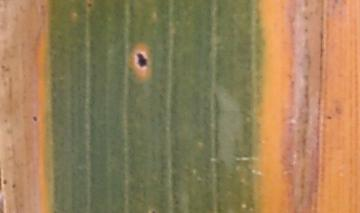tarspot: (134, 51, 149, 68), (1, 193, 7, 213), (1, 63, 12, 73), (85, 1, 94, 9), (10, 182, 18, 190), (302, 1, 310, 9), (31, 114, 38, 123), (325, 114, 333, 121), (302, 26, 309, 34), (2, 178, 8, 186), (303, 14, 309, 22), (39, 3, 45, 11), (332, 1, 340, 5), (149, 209, 157, 213)
